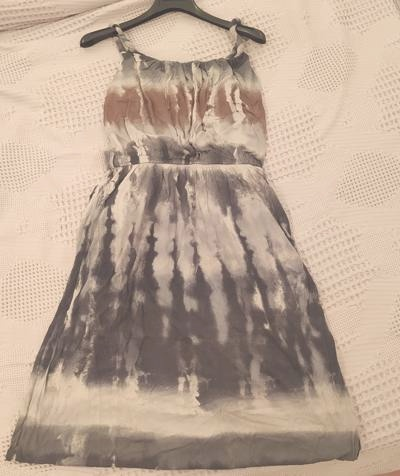Dress: (45, 14, 377, 461)
